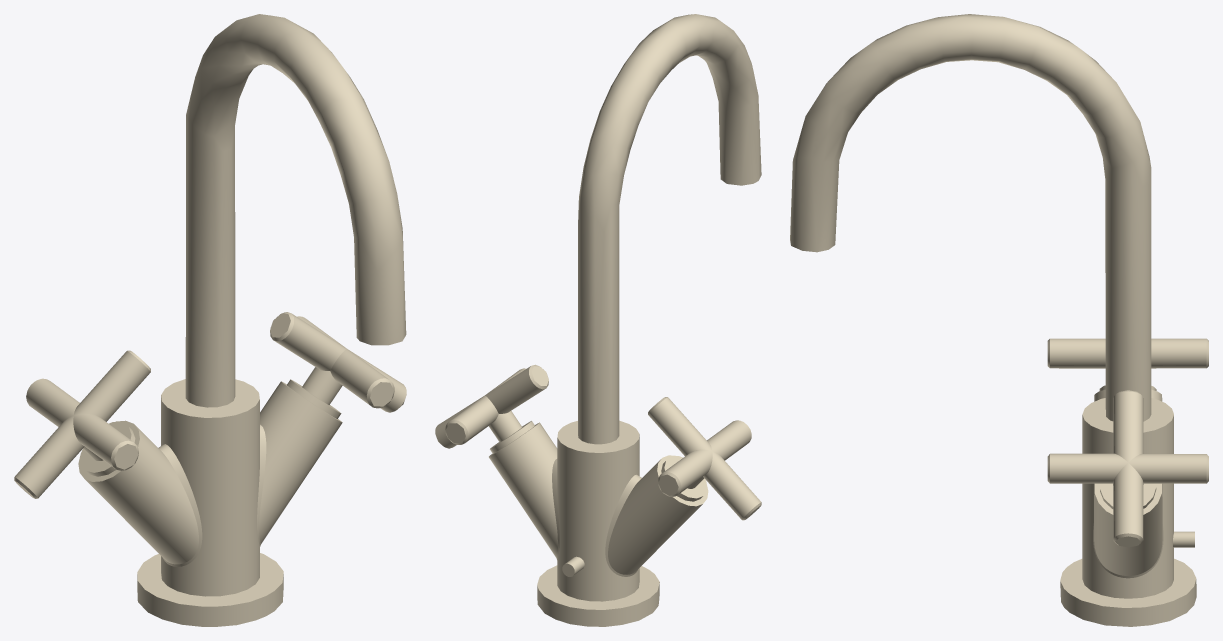
3 renders of one model, left to right at view 1: azimuth 30°, elevation 25°; view 2: azimuth 150°, elevation 25°; view 3: azimuth 270°, elevation 25°, orthographic. The views are drawn at different scales.
Parts seen in each view (by area): view 1: L_94b5b9f5_0670_40c8_80ed_b8aa51c8f340_I3, L_d3dcbb2b_4c44_437a_949d_012641e3e39b_I7, L_371058ef_0f02_43a9_b4b8_7bc3ba85c9c8_I1, L_aebabbb1_322c_48e3_8798_877ce0681c3e_I4, L_d9a1821b_6350_4af8_81e9_f33a4fe3cdb1_I8, L_b1cc2468_1b43_49ec_a76c_5935a66f385f_I6; view 2: L_94b5b9f5_0670_40c8_80ed_b8aa51c8f340_I3, L_d3dcbb2b_4c44_437a_949d_012641e3e39b_I7, L_371058ef_0f02_43a9_b4b8_7bc3ba85c9c8_I1, L_aebabbb1_322c_48e3_8798_877ce0681c3e_I4, L_d9a1821b_6350_4af8_81e9_f33a4fe3cdb1_I8, L_b1cc2468_1b43_49ec_a76c_5935a66f385f_I6; view 3: L_94b5b9f5_0670_40c8_80ed_b8aa51c8f340_I3, L_d3dcbb2b_4c44_437a_949d_012641e3e39b_I7, L_aebabbb1_322c_48e3_8798_877ce0681c3e_I4, L_d9a1821b_6350_4af8_81e9_f33a4fe3cdb1_I8, L_371058ef_0f02_43a9_b4b8_7bc3ba85c9c8_I1.
Boxes of the visible parts, <box> form: L_94b5b9f5_0670_40c8_80ed_b8aa51c8f340_I3: <box>185,14,406,407</box>; L_d3dcbb2b_4c44_437a_949d_012641e3e39b_I7: <box>78,379,342,596</box>; L_371058ef_0f02_43a9_b4b8_7bc3ba85c9c8_I1: <box>14,350,150,498</box>; L_aebabbb1_322c_48e3_8798_877ce0681c3e_I4: <box>270,312,406,412</box>; L_d9a1821b_6350_4af8_81e9_f33a4fe3cdb1_I8: <box>137,553,283,626</box>; L_b1cc2468_1b43_49ec_a76c_5935a66f385f_I6: <box>80,422,135,476</box>; L_94b5b9f5_0670_40c8_80ed_b8aa51c8f340_I3: <box>578,14,761,444</box>; L_d3dcbb2b_4c44_437a_949d_012641e3e39b_I7: <box>489,420,708,601</box>; L_371058ef_0f02_43a9_b4b8_7bc3ba85c9c8_I1: <box>648,397,761,520</box>; L_aebabbb1_322c_48e3_8798_877ce0681c3e_I4: <box>435,364,548,448</box>; L_d9a1821b_6350_4af8_81e9_f33a4fe3cdb1_I8: <box>537,565,659,626</box>; L_b1cc2468_1b43_49ec_a76c_5935a66f385f_I6: <box>661,456,706,501</box>; L_94b5b9f5_0670_40c8_80ed_b8aa51c8f340_I3: <box>790,14,1151,421</box>; L_d3dcbb2b_4c44_437a_949d_012641e3e39b_I7: <box>1082,389,1173,598</box>; L_aebabbb1_322c_48e3_8798_877ce0681c3e_I4: <box>1047,390,1208,547</box>; L_d9a1821b_6350_4af8_81e9_f33a4fe3cdb1_I8: <box>1060,558,1196,626</box>; L_371058ef_0f02_43a9_b4b8_7bc3ba85c9c8_I1: <box>1047,338,1208,368</box>.
Bounding box in the file's own units: 0.1794 × 0.2788 × 0.1819.
